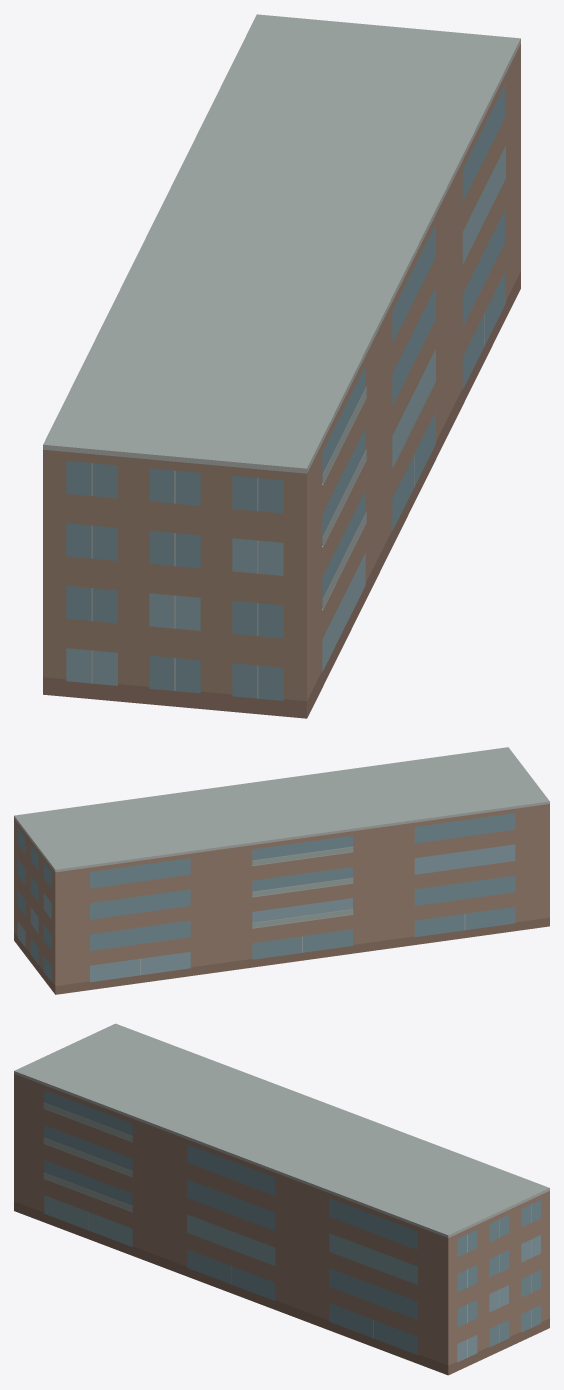
The model's file is survey-upis-32773217.glb.
The picture shows the model from 3 angles, top to bottom: view 1: azimuth 30°, elevation 25°; view 2: azimuth 150°, elevation 25°; view 3: azimuth 270°, elevation 25°; orthographic projection. The views are drawn at different scales.
Visible parts, largest first — view 1: survey-upis-32773217.tmp; view 2: survey-upis-32773217.tmp; view 3: survey-upis-32773217.tmp.
Part boxes in pixels (box(x1,y1,x2,y2)): survey-upis-32773217.tmp: box(43, 14, 520, 718); survey-upis-32773217.tmp: box(14, 747, 549, 994); survey-upis-32773217.tmp: box(14, 1023, 549, 1375).
Bounding box in the file's own units: 39.59 × 12.2 × 42.31.
